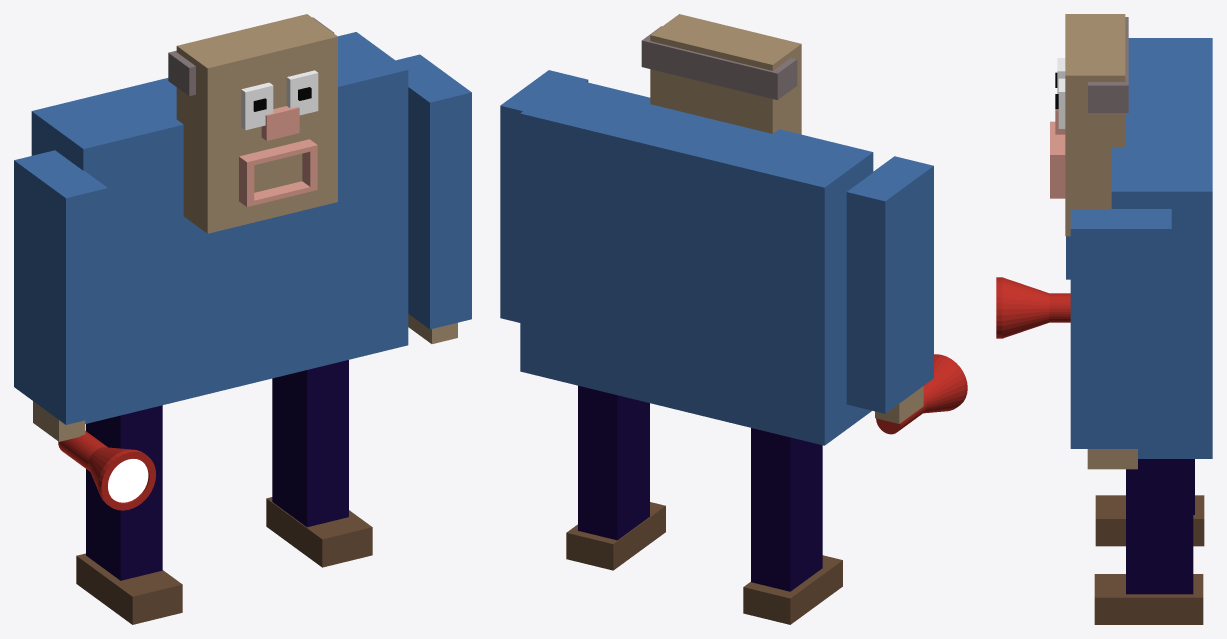
Rendered from Man.glb.
3 renders of one model, left to right at view 1: azimuth 30°, elevation 25°; view 2: azimuth 150°, elevation 25°; view 3: azimuth 270°, elevation 25°, orthographic. The views are drawn at different scales.
Parts seen in each view (by area): view 1: Cube.002, Cube.001, Cube.004, Cube, Cube.005, Cube.003, Cube.007, Cylinder, Cube.006, Cube.008, Cube.009, Cube.010 (+4 smaller); view 2: Cube.002, Cube.004, Cube.003, Cube.001, Cube.005, Cube, Cube.014, Cube.007, Cube.006, Cylinder, Cube.012; view 3: Cube.002, Cube, Cube.001, Cube.005, Cube.006, Cylinder, Cube.007, Cube.014, Cube.008, Cube.013, Cube.010.
Boxes of the visible parts, x1=… form: Cube.002: x1=31, y1=32, x2=408, y2=423; Cube.001: x1=176, y1=14, x2=337, y2=233; Cube.004: x1=14, y1=150, x2=107, y2=424; Cube: x1=396, y1=54, x2=471, y2=329; Cube.005: x1=272, y1=360, x2=348, y2=527; Cube.003: x1=86, y1=405, x2=162, y2=580; Cube.007: x1=76, y1=553, x2=182, y2=624; Cylinder: x1=58, y1=431, x2=155, y2=510; Cube.006: x1=266, y1=497, x2=372, y2=567; Cube.008: x1=239, y1=139, x2=317, y2=206; Cube.009: x1=241, y1=82, x2=273, y2=130; Cube.010: x1=286, y1=70, x2=318, y2=115; Cube.002: x1=520, y1=78, x2=873, y2=445; Cube.004: x1=846, y1=156, x2=933, y2=413; Cube.003: x1=751, y1=428, x2=822, y2=591; Cube.001: x1=650, y1=14, x2=801, y2=134; Cube.005: x1=578, y1=385, x2=649, y2=540; Cube: x1=500, y1=70, x2=588, y2=322; Cube.014: x1=641, y1=26, x2=797, y2=99; Cube.007: x1=743, y1=555, x2=842, y2=624; Cube.006: x1=566, y1=502, x2=665, y2=570; Cylinder: x1=876, y1=354, x2=967, y2=434; Cube.012: x1=875, y1=386, x2=923, y2=423; Cube.002: x1=1111, y1=38, x2=1212, y2=458; Cube: x1=1070, y1=209, x2=1171, y2=448; Cube.001: x1=1065, y1=14, x2=1125, y2=236; Cube.005: x1=1126, y1=459, x2=1193, y2=594; Cube.006: x1=1094, y1=574, x2=1203, y2=624; Cylinder: x1=996, y1=277, x2=1070, y2=338; Cube.007: x1=1095, y1=495, x2=1204, y2=546; Cube.014: x1=1088, y1=17, x2=1128, y2=112; Cube.008: x1=1050, y1=121, x2=1065, y2=198; Cube.013: x1=1087, y1=449, x2=1137, y2=469; Cube.010: x1=1058, y1=78, x2=1065, y2=128.
Size of the model in its own units: 3.11 by 4.02 by 1.47.
